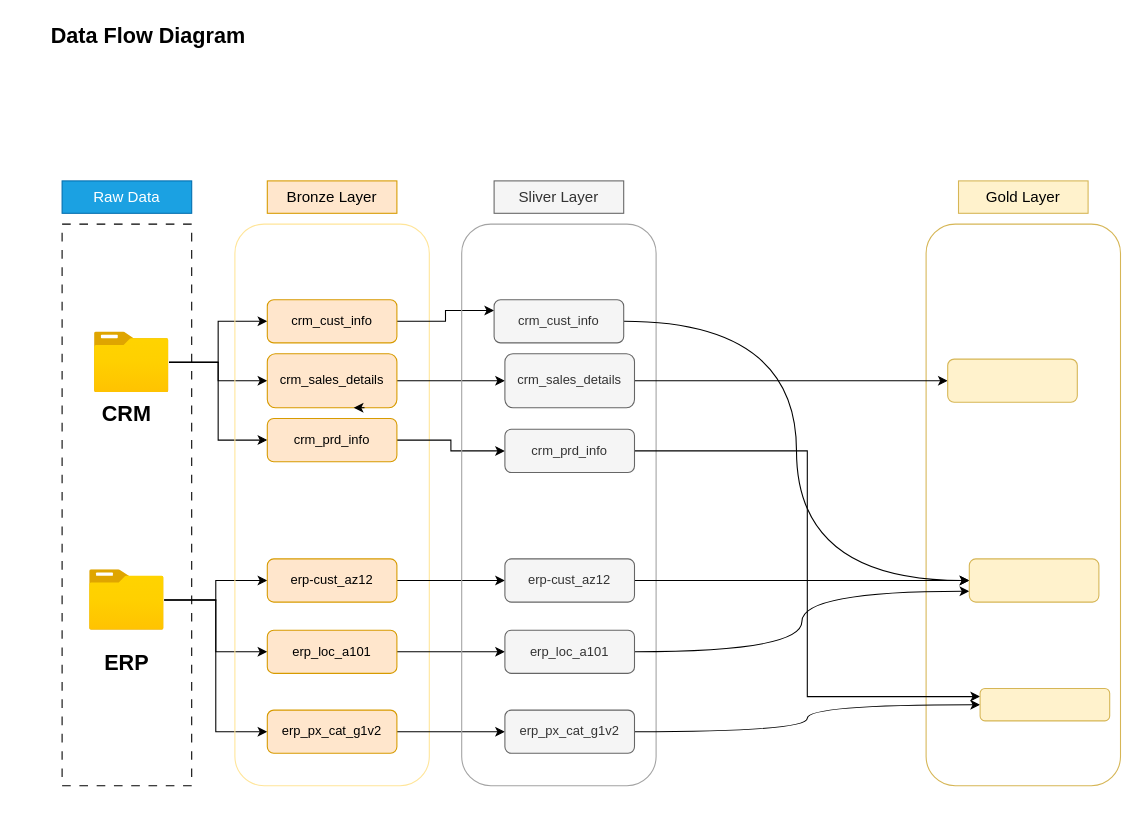
Image size: 1139x813. Some labels were removed from this diagram. The centre of each missing label's shape, as x and y in pixels:
dim_customers: point (1033, 580)
dim_produicts: point (1044, 704)
fact_sales: point (1012, 380)
